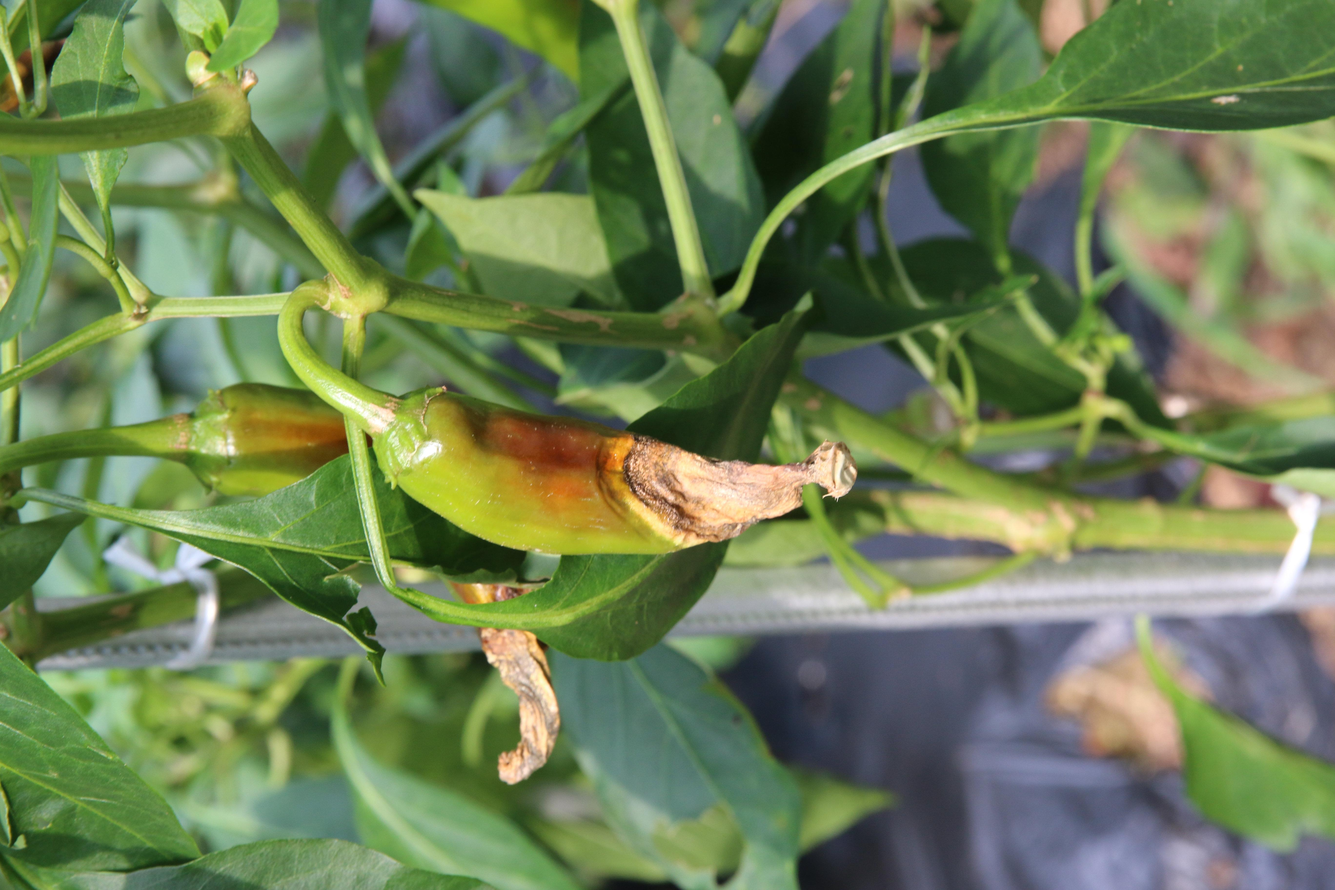Busuk Buah Antraknosa: (370, 383, 859, 558)
